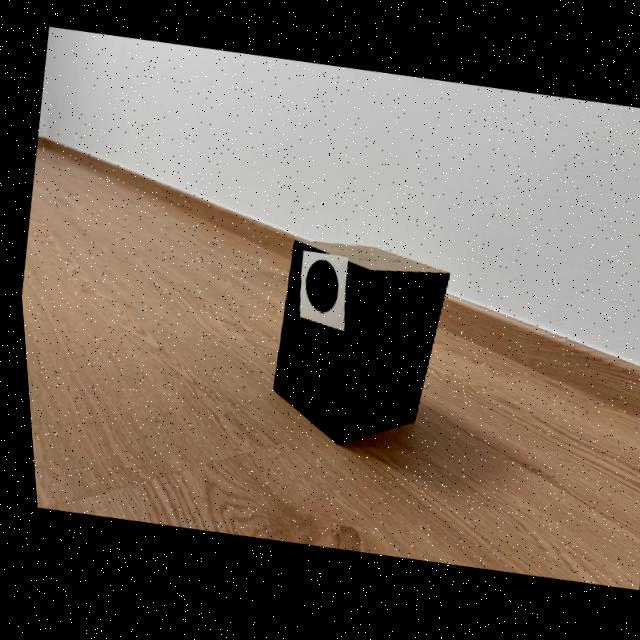CIRCLE: (300, 262, 333, 315)
